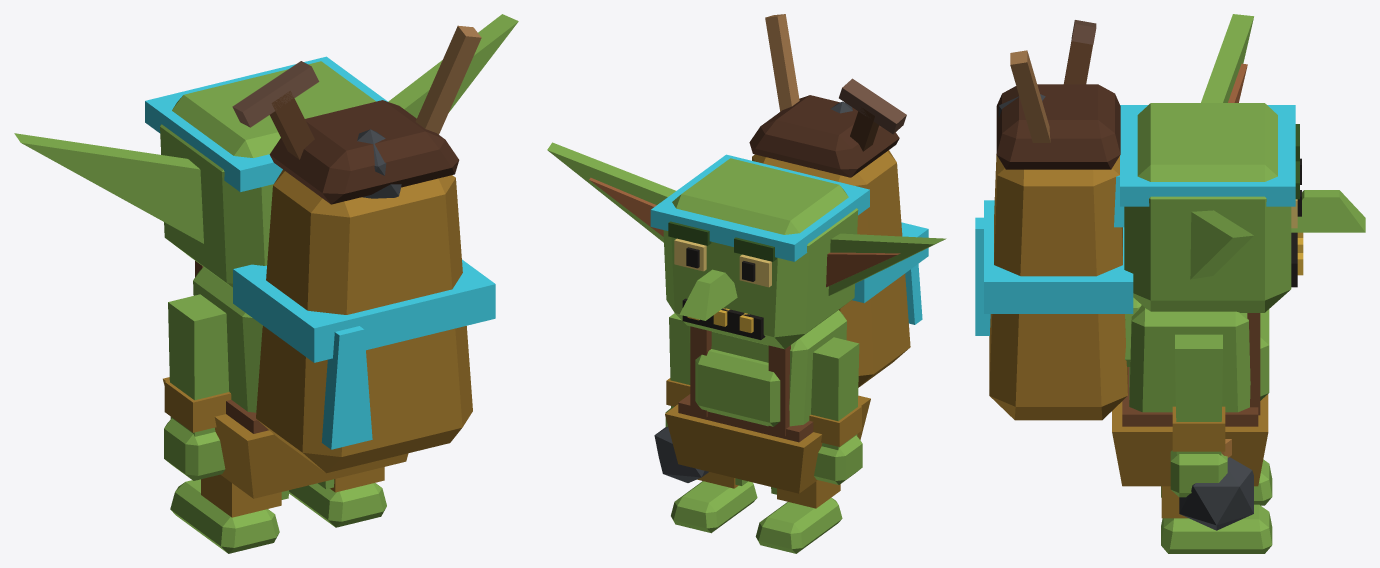
File: CH_PitGoblin_Ratcatcher.fbx
3 views of the same model, side by side, from view 1: azimuth 30°, elevation 25°; view 2: azimuth 150°, elevation 25°; view 3: azimuth 270°, elevation 25° (orthographic). The views are drawn at different scales.
Parts seen in each view (by area): view 1: Satchel, Head, SatchelFlap, SatchelRag, EarL, Rag, ArmL, RagTail, Headband, Body, FootL, JunkStick (+10 smaller); view 2: Head, Satchel, Rag, SatchelFlap, Headband, Belly, Body, ArmL, FootL, FootR, EarR, EarL (+22 smaller); view 3: Satchel, Head, SatchelFlap, Body, SatchelRag, Headband, Rag, ArmR, FootR, BombBall, EarR, Nose (+12 smaller).
Part boxes in pixels (x1,y1,x2,y2): Satchel: (256,169,472,473); Head: (160,61,375,287); SatchelFlap: (269,100,459,204); SatchelRag: (233,259,495,362); EarL: (14,133,203,243); Rag: (163,377,408,498); ArmL: (168,294,229,436); RagTail: (321,326,372,449); Headband: (145,56,387,192); Body: (193,267,262,412); FootL: (170,479,279,553); JunkStick: (415,25,481,134); Head: (663,158,858,349); Satchel: (752,150,910,387); Rag: (665,395,870,493); SatchelFlap: (749,95,899,177); Headband: (650,154,869,261); Belly: (695,349,780,426); Body: (689,310,846,426); ArmL: (811,337,859,449); FootL: (755,497,842,553); FootR: (671,481,757,533); EarR: (547,142,675,242); EarL: (828,233,946,295); Satchel: (989,154,1127,420); Head: (1124,103,1291,312); SatchelFlap: (996,84,1120,169); Body: (1129,305,1250,412); SatchelRag: (984,200,1133,313); Headband: (1120,105,1295,206); Rag: (1112,394,1268,486); ArmR: (1175,334,1222,455); FootR: (1161,504,1272,553); BombBall: (1179,457,1253,530); EarR: (1190,210,1253,279); Nose: (1291,190,1365,232).
Size of the model in its own units: 1.21 by 0.89 by 1.27.
